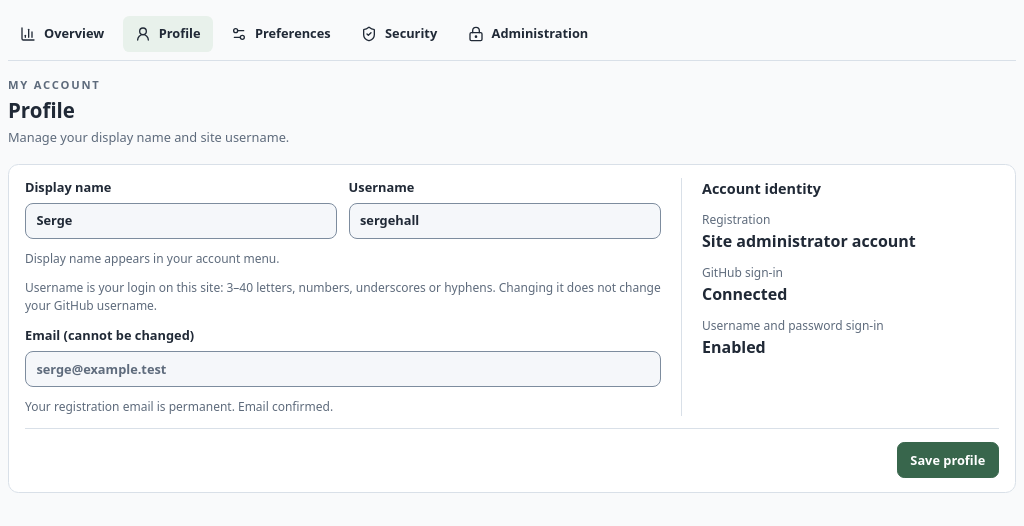
Test: Owner account › saves the site username separately and keeps email read-only
Expected: the field labelled "Email (cannot be changed)" holds "serge@example.test", [25,351,661,387]
Expected: the text "Site administrator account" is shown, [702,230,916,252]
Replace the text in the field labelled "Username" with "new_username" at (505, 221), box [349,203,661,239]
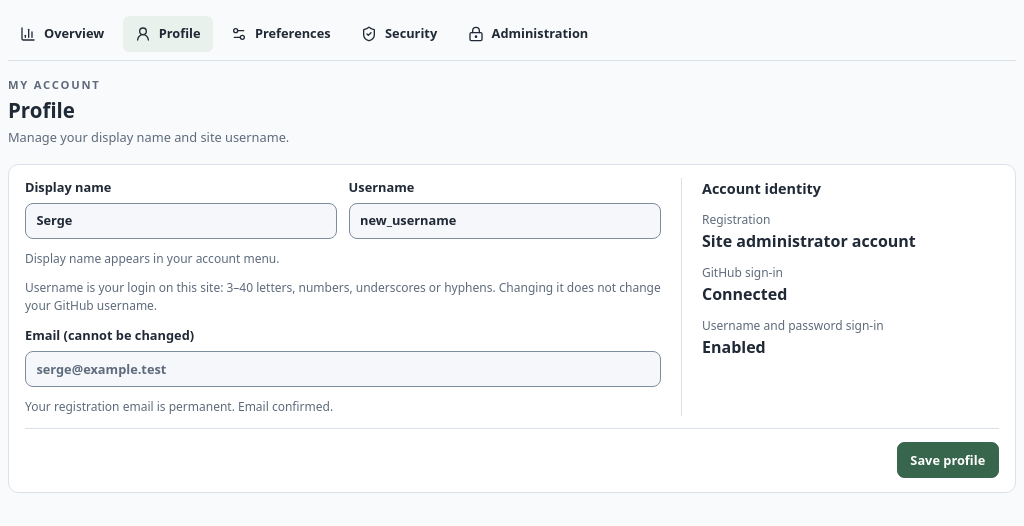
Click the button "Save profile".
click(948, 460)  # box [896,442,999,478]
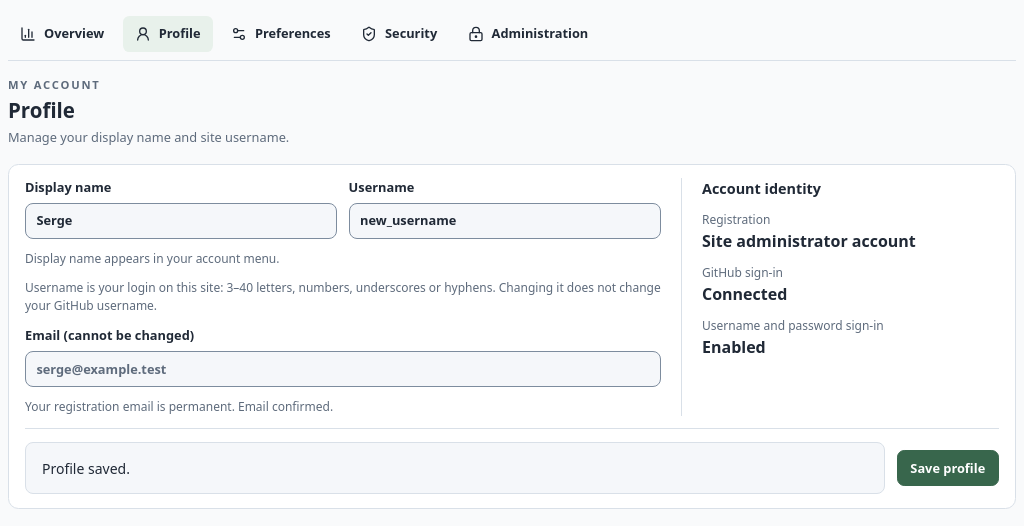
Now the text "Profile saved." is shown, box [25,442,884,494]
